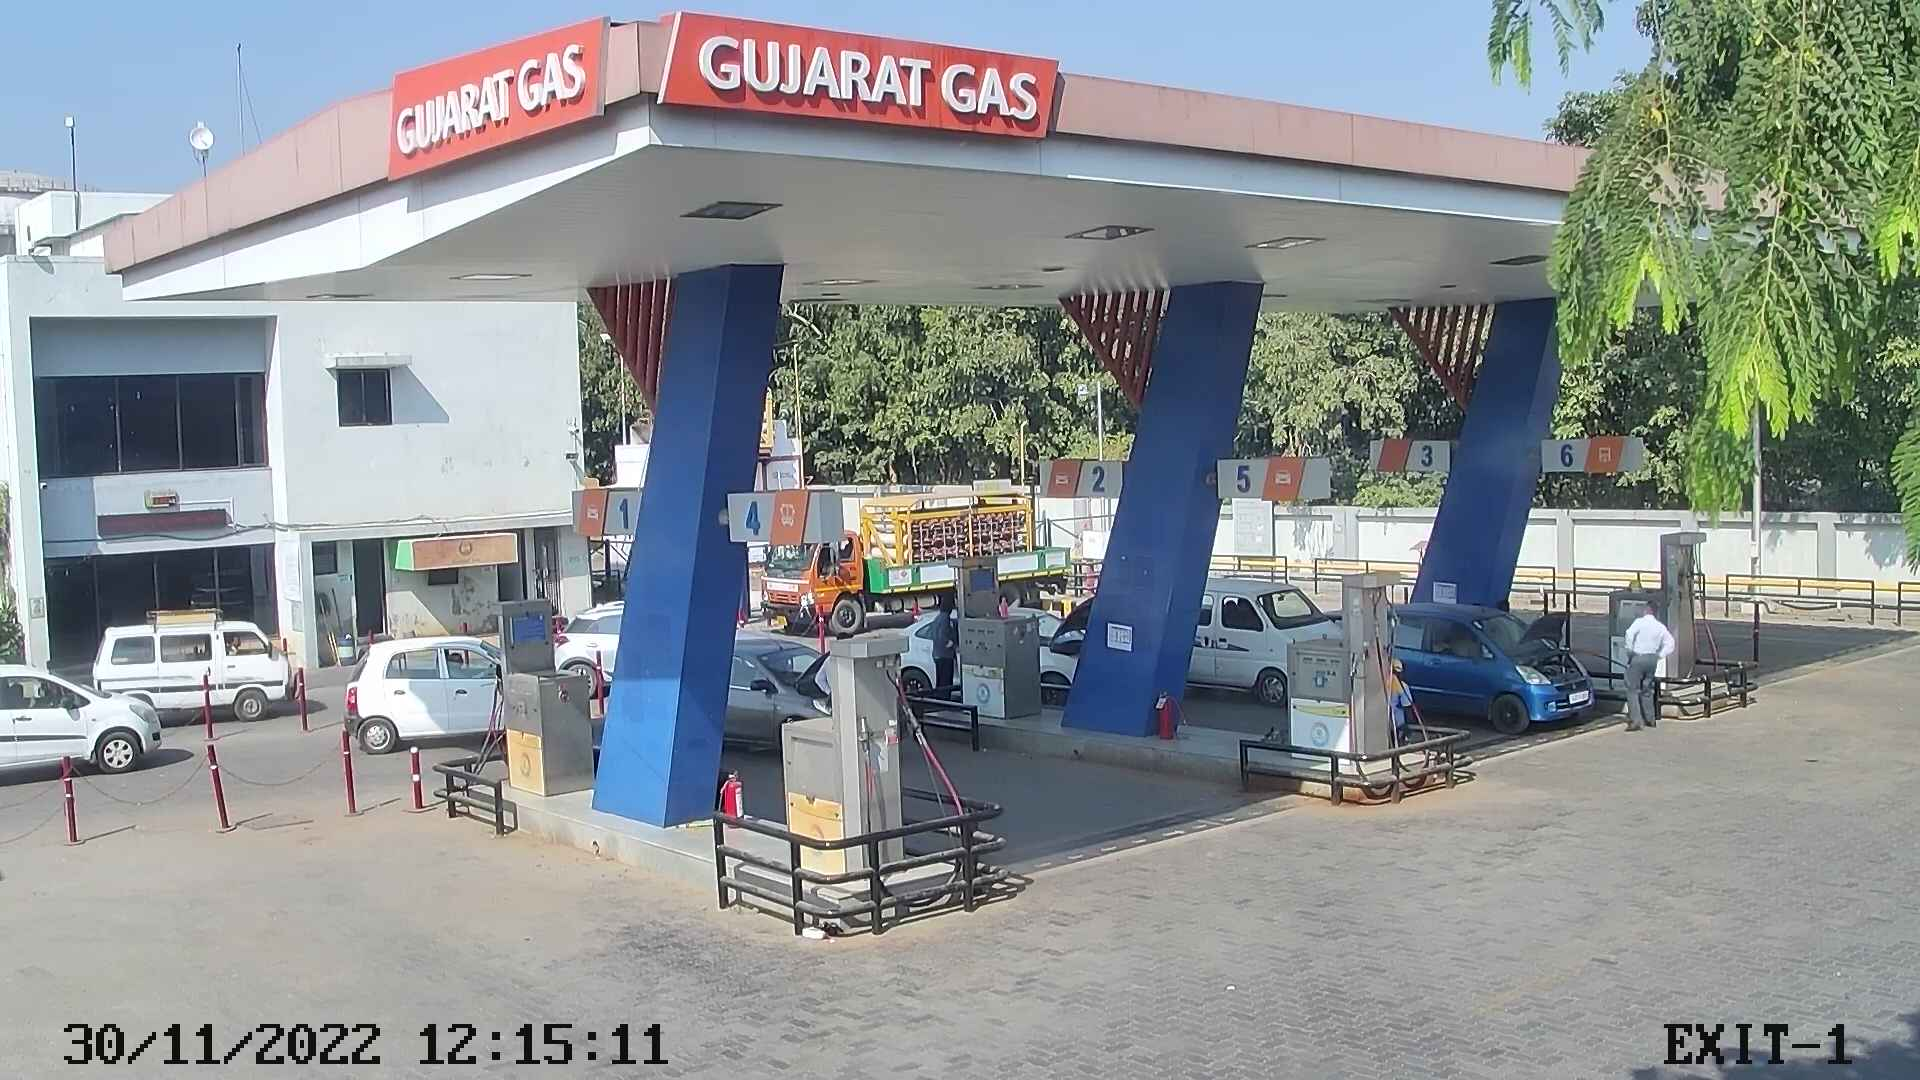Car: (1378, 591, 1604, 742), (80, 605, 306, 729), (336, 624, 530, 757), (1180, 568, 1346, 716), (3, 647, 165, 787), (715, 629, 836, 770), (1000, 591, 1102, 711), (545, 593, 634, 713)
HMV: (754, 473, 1083, 646)
Others: (1379, 646, 1422, 753)
